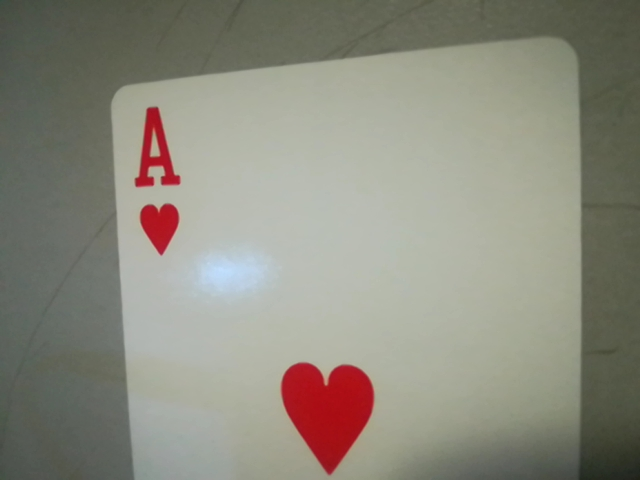hx a: (118, 93, 193, 269)
